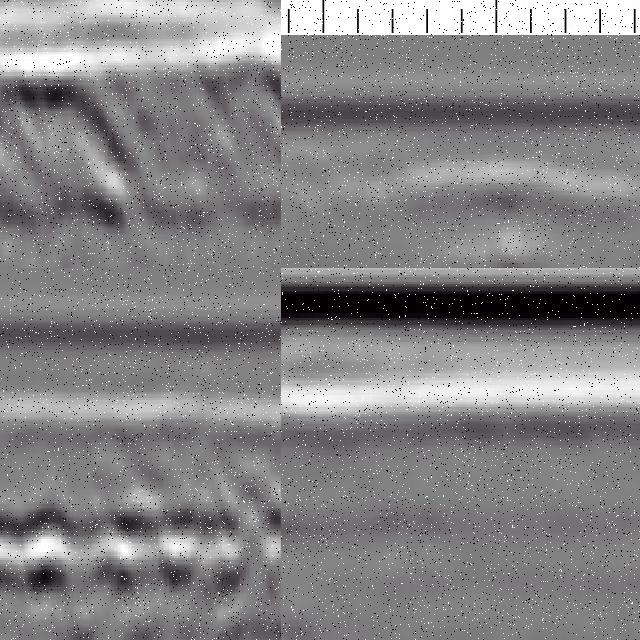loose: (1, 48, 282, 225), (1, 479, 282, 601), (415, 162, 586, 269)
